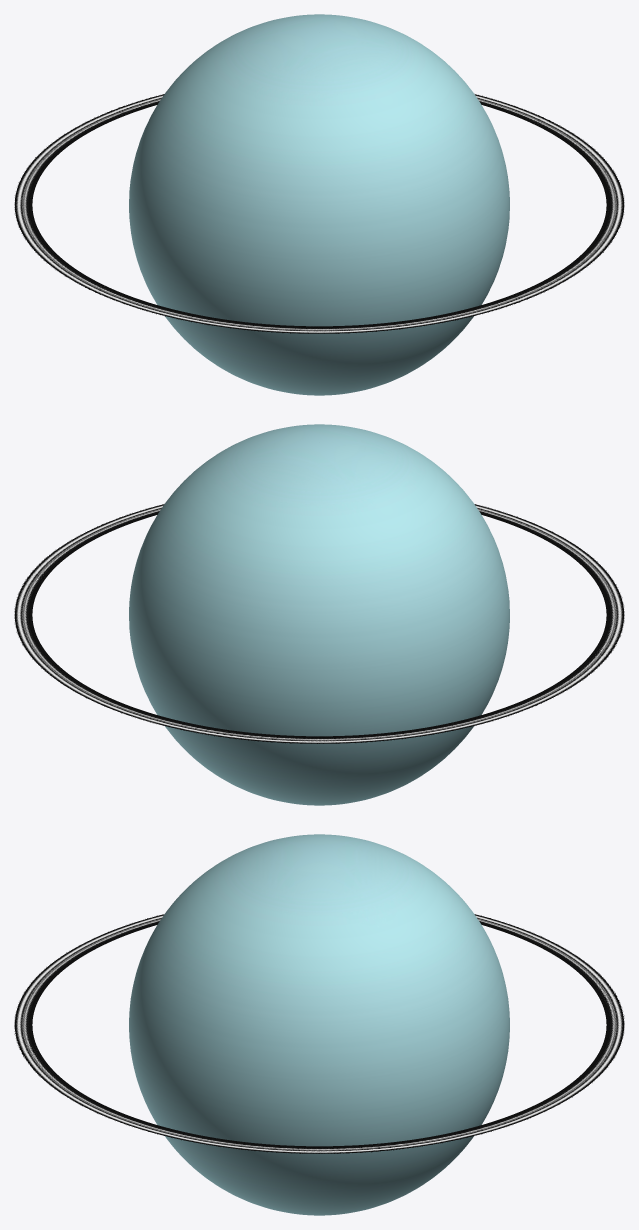
Rendered from realistic_uranus_4k.glb.
3 views of the same model, one above another, from view 1: azimuth 30°, elevation 25°; view 2: azimuth 150°, elevation 25°; view 3: azimuth 270°, elevation 25° (orthographic).
Parts seen in each view (by area): view 1: Sphere, Circle; view 2: Sphere, Circle; view 3: Sphere, Circle.
Part boxes in pixels (x1,y1,x2,y2): Sphere: (129,14,509,395); Circle: (14,94,624,333); Sphere: (129,424,509,805); Circle: (14,504,624,743); Sphere: (129,834,509,1215); Circle: (14,914,624,1153).
Bounding box in the file's own units: 1914 × 1194 × 1914.
2 materials, 2 textured.
